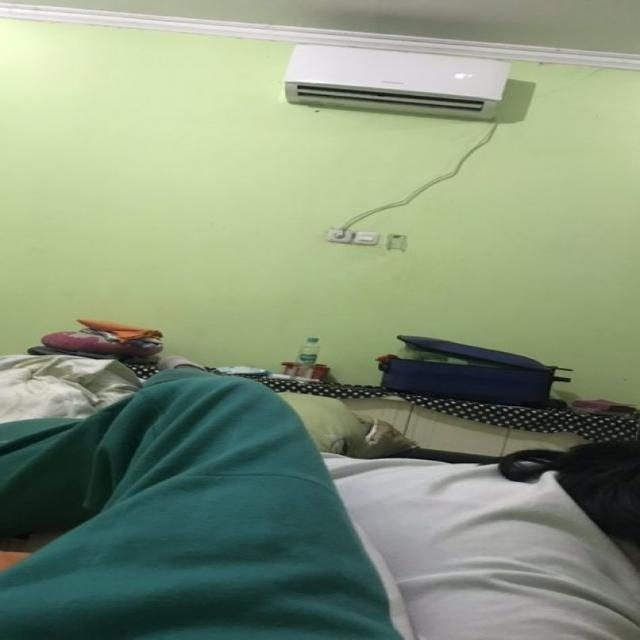AC: (283, 42, 509, 120)
